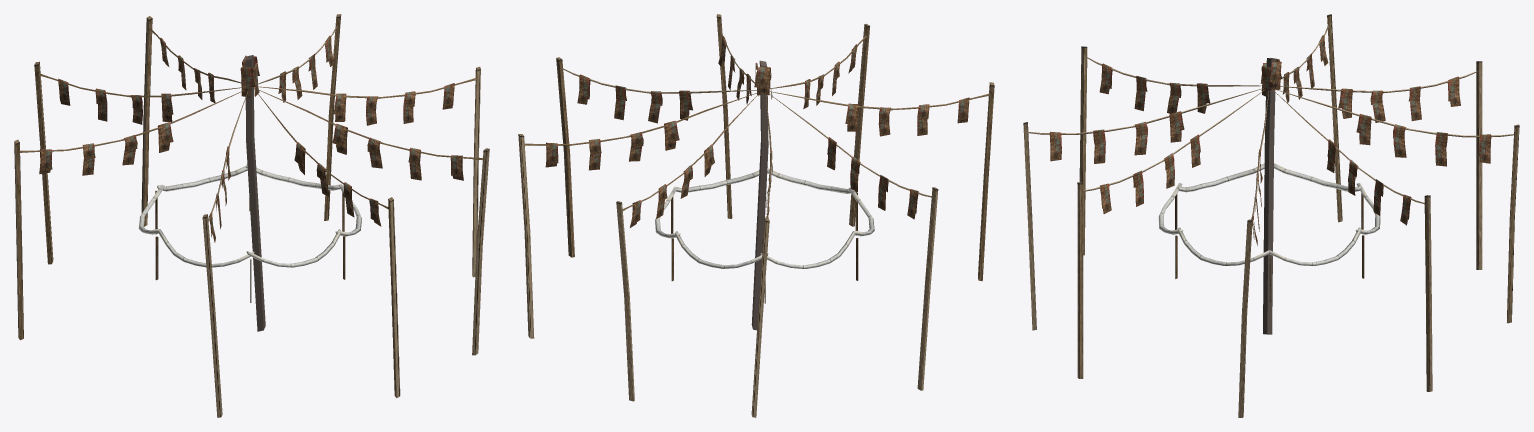
File: ovoo_deco.dae
3 renders of one model, left to right at view 1: azimuth 30°, elevation 25°; view 2: azimuth 150°, elevation 25°; view 3: azimuth 270°, elevation 25°, orthographic.
Parts seen in each view (by area): view 1: deco_ovoo; view 2: deco_ovoo; view 3: deco_ovoo.
Part boxes in pixels (left/top/right/bottom): deco_ovoo: left=14, top=14, right=489, bottom=417; deco_ovoo: left=518, top=14, right=994, bottom=417; deco_ovoo: left=1023, top=14, right=1519, bottom=417.
Bounding box in the file's own units: 27.95 × 28.29 × 17.32.
1 material, 1 textured.
